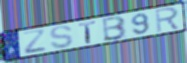9: (130, 12, 153, 35)
B: (102, 14, 129, 42)
R: (154, 6, 181, 34)
S: (49, 25, 74, 50)
T: (77, 19, 98, 45)
Z: (22, 29, 48, 55)
